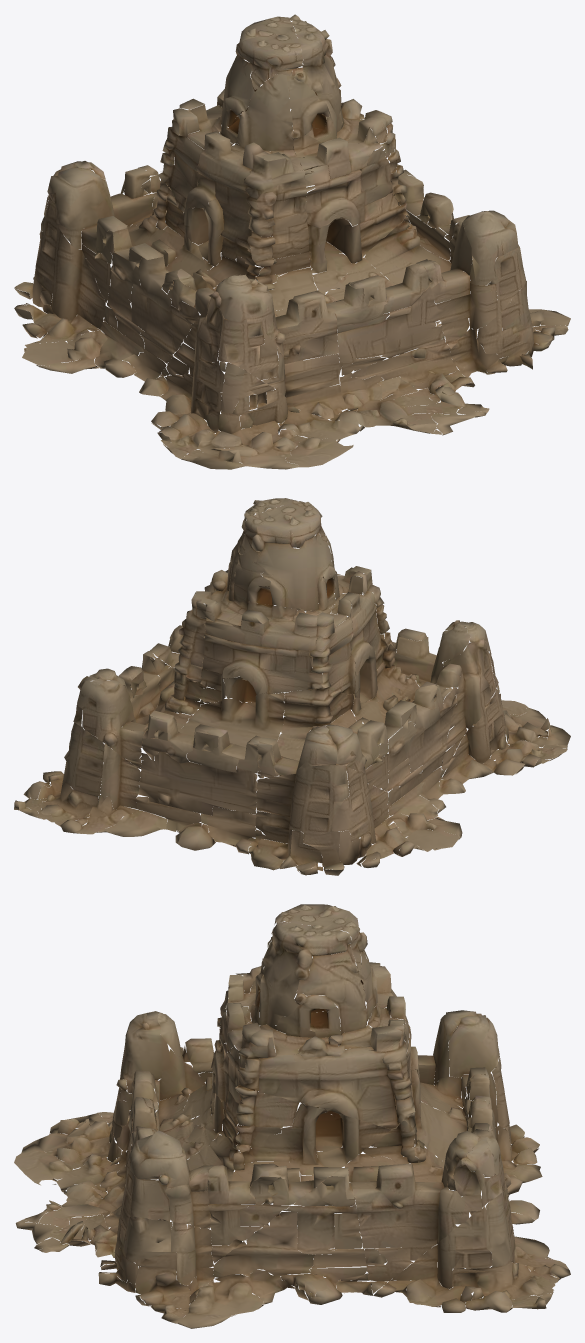
The model's file is castle.glb.
3 renders of one model, top to bottom at view 1: azimuth 30°, elevation 25°; view 2: azimuth 150°, elevation 25°; view 3: azimuth 270°, elevation 25°, orthographic. The views are drawn at different scales.
Parts seen in each view (by area): view 1: tripo_node_b7a4a35f-8429-4082-aea4-66989ac4fb61; view 2: tripo_node_b7a4a35f-8429-4082-aea4-66989ac4fb61; view 3: tripo_node_b7a4a35f-8429-4082-aea4-66989ac4fb61.
Part boxes in pixels (x1,y1,x2,y2): tripo_node_b7a4a35f-8429-4082-aea4-66989ac4fb61: (14, 14, 570, 469); tripo_node_b7a4a35f-8429-4082-aea4-66989ac4fb61: (14, 498, 570, 875); tripo_node_b7a4a35f-8429-4082-aea4-66989ac4fb61: (14, 904, 570, 1328).
Bounding box in the file's own units: 1 × 0.6335 × 1.06.
Materials: 1 (1 with a texture image).
